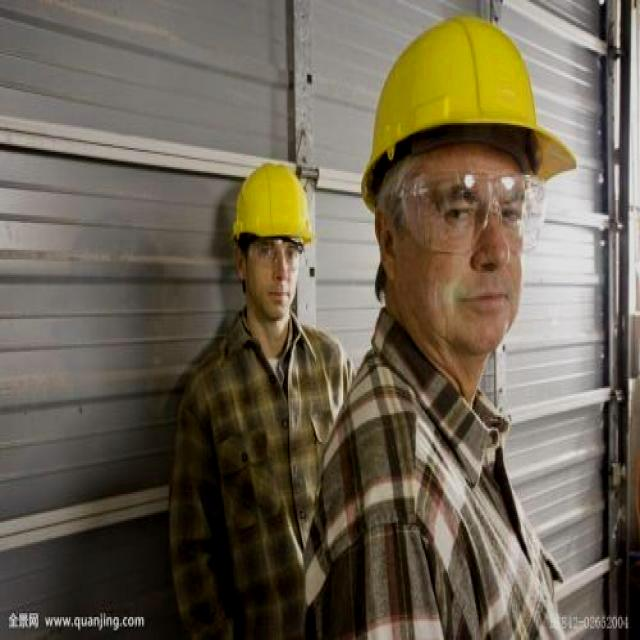face_nomask: (421, 173, 529, 325), (250, 240, 301, 313)
glasses: (395, 163, 554, 266), (246, 238, 309, 274)
head_helmet: (359, 13, 576, 184), (227, 162, 314, 246)
person: (309, 19, 569, 640), (164, 156, 375, 640)
